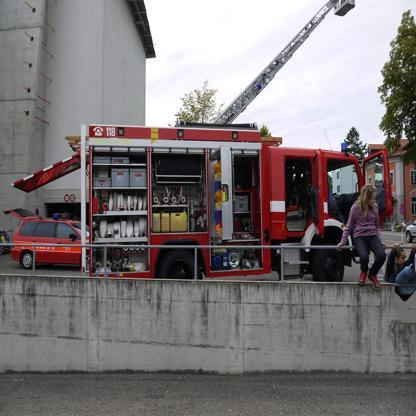fire-truck: (0, 78, 416, 335)
